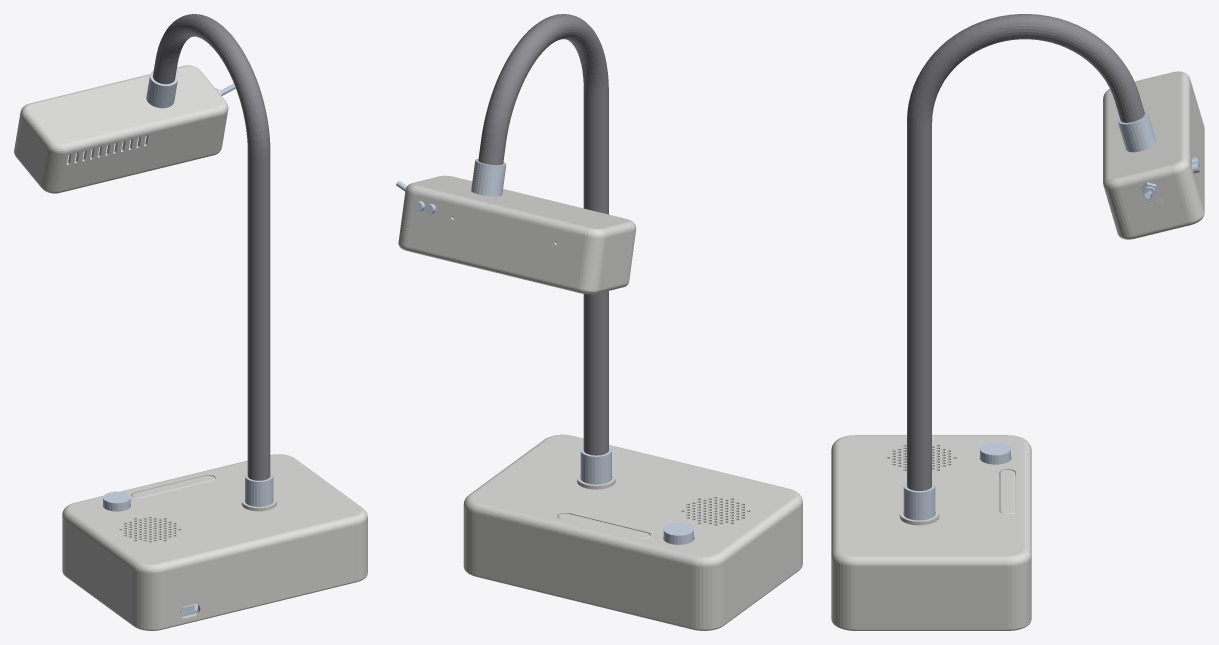
File: system.glb
3 renders of one model, left to right at view 1: azimuth 30°, elevation 25°; view 2: azimuth 150°, elevation 25°; view 3: azimuth 270°, elevation 25°, orthographic. The views are drawn at different scales.
Parts seen in each view (by area): view 1: base-top, head-upper, arm, head-lower, base-bottom, coupling-base, coupling-head, diffuser, talk; view 2: base-top, arm, head-upper, head-lower, base-bottom, coupling-head, coupling-base, diffuser, talk; view 3: base-top, arm, head-upper, head-lower, coupling-head, coupling-base, base-bottom, diffuser, talk.
Boxes of the visible parts, x1,y1,x2,y2 form: base-top: (62,454,367,627); head-upper: (16,65,228,176); arm: (153,14,270,480); head-lower: (14,133,224,193); base-bottom: (62,570,367,630); coupling-base: (245,472,273,506); coupling-head: (146,70,177,108); diffuser: (131,475,215,498); talk: (103,491,130,511); base-top: (463,434,802,627); arm: (478,14,608,455); head-upper: (401,175,636,268); head-lower: (398,222,631,294); base-bottom: (463,563,802,630); coupling-head: (471,158,506,196); coupling-base: (580,446,611,484); diffuser: (557,513,650,538); talk: (663,522,693,544); base-top: (831,435,1031,627); arm: (907,14,1144,490); head-upper: (1103,71,1198,217); head-lower: (1112,108,1204,239); coupling-head: (1117,109,1156,152); coupling-base: (903,482,935,520); base-bottom: (831,618,1031,630); diffuser: (999,470,1015,514); talk: (980,442,1010,464).
Bounding box in the file's own units: 0.1502 × 0.3186 × 0.1864.
